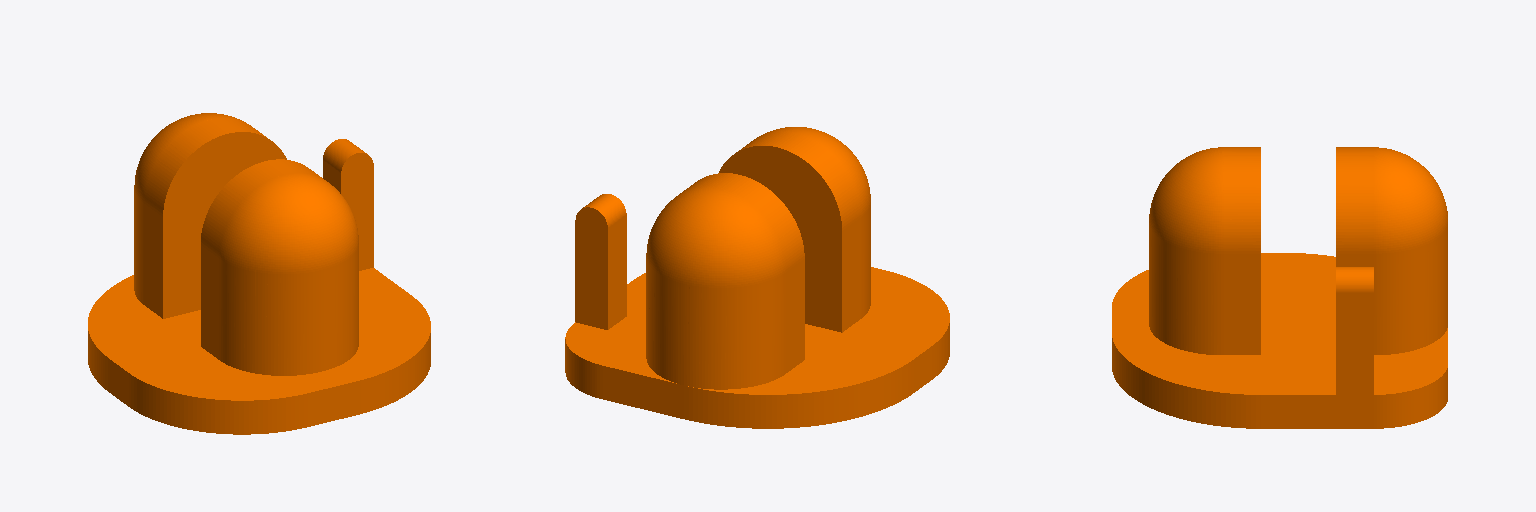
File: Column.obj
3 views of the same model, side by side, from view 1: azimuth 30°, elevation 25°; view 2: azimuth 150°, elevation 25°; view 3: azimuth 270°, elevation 25° (orthographic).
Parts seen in each view (by area): view 1: Column; view 2: Column; view 3: Column.
Part boxes in pixels (left/top/right/bottom): Column: left=88, top=113, right=430, bottom=434; Column: left=565, top=127, right=949, bottom=428; Column: left=1112, top=147, right=1447, bottom=428.
Size of the model in its own units: 0.9 by 0.6 by 0.9.